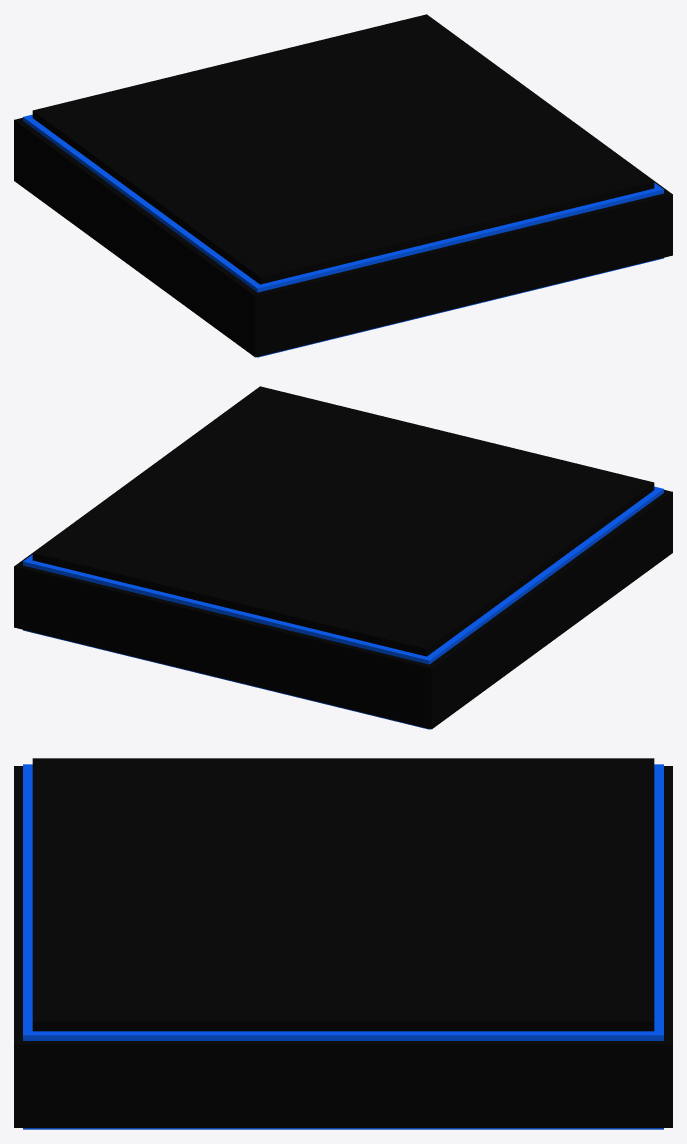
3 views of the same model, one above another, from view 1: azimuth 30°, elevation 25°; view 2: azimuth 150°, elevation 25°; view 3: azimuth 270°, elevation 25° (orthographic). The views are drawn at different scales.
Visible parts, largest first — view 1: Cube; view 2: Cube; view 3: Cube.
Part boxes in pixels (x1=…): Cube: x1=14, y1=14, x2=672, y2=357; Cube: x1=14, y1=386, x2=672, y2=729; Cube: x1=14, y1=758, x2=672, y2=1129.
Bounding box in the file's own units: 206 × 35.96 × 206.
